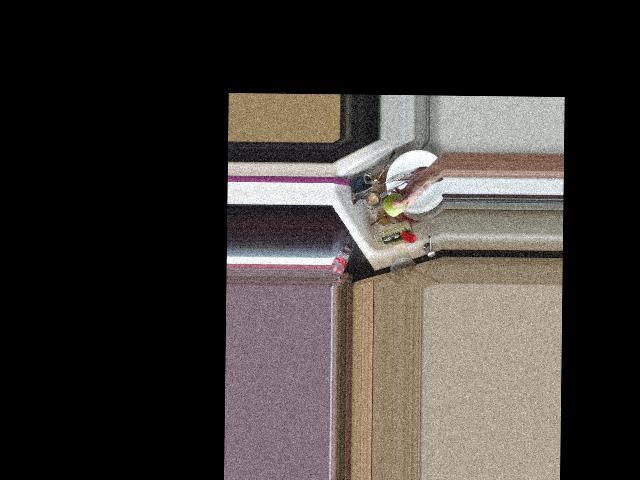apple: (382, 190, 408, 217)
